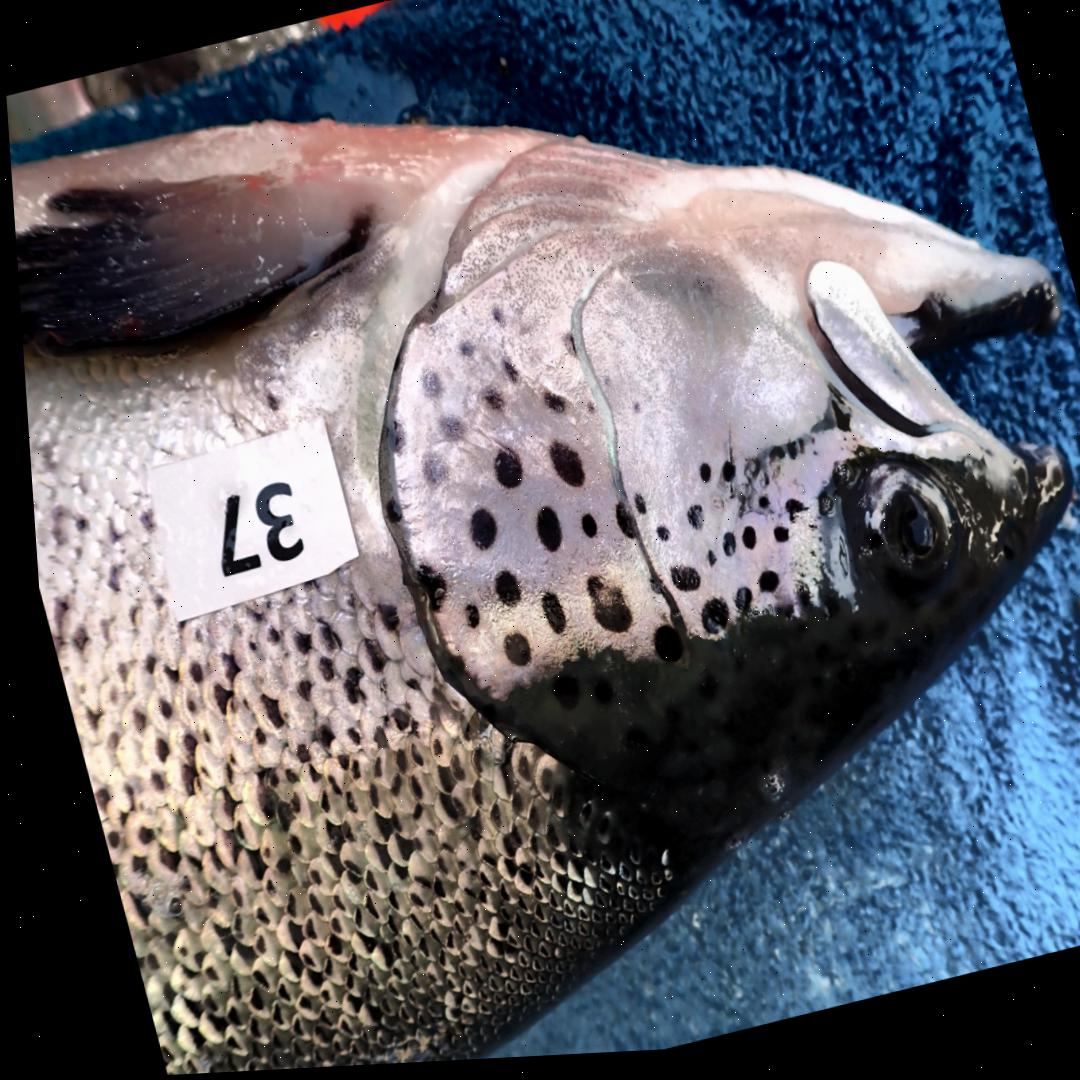spot: (577, 582, 623, 639), (542, 446, 577, 493), (406, 568, 438, 616), (639, 572, 666, 617), (527, 512, 553, 557), (486, 454, 515, 493), (643, 631, 673, 668), (461, 513, 488, 554), (531, 597, 556, 639), (414, 455, 441, 493), (691, 604, 719, 640), (485, 575, 511, 612), (493, 637, 521, 671), (430, 418, 459, 447), (662, 572, 691, 599), (413, 373, 437, 405), (606, 509, 627, 545), (377, 424, 397, 458), (494, 361, 515, 390), (536, 395, 559, 419), (476, 391, 498, 416), (556, 334, 572, 368), (724, 594, 743, 621), (777, 506, 799, 529), (711, 466, 729, 493), (749, 577, 770, 600), (450, 341, 470, 365), (484, 308, 501, 334), (678, 511, 695, 536), (732, 532, 748, 558), (378, 502, 393, 527), (455, 609, 470, 632), (573, 520, 588, 543), (713, 539, 727, 563), (577, 403, 593, 424), (624, 499, 638, 521), (761, 454, 777, 472), (777, 448, 791, 468), (765, 533, 780, 551), (691, 469, 703, 490), (647, 532, 661, 549), (749, 502, 761, 516), (624, 406, 634, 421), (698, 558, 707, 573), (790, 446, 798, 461), (617, 511, 622, 516)
